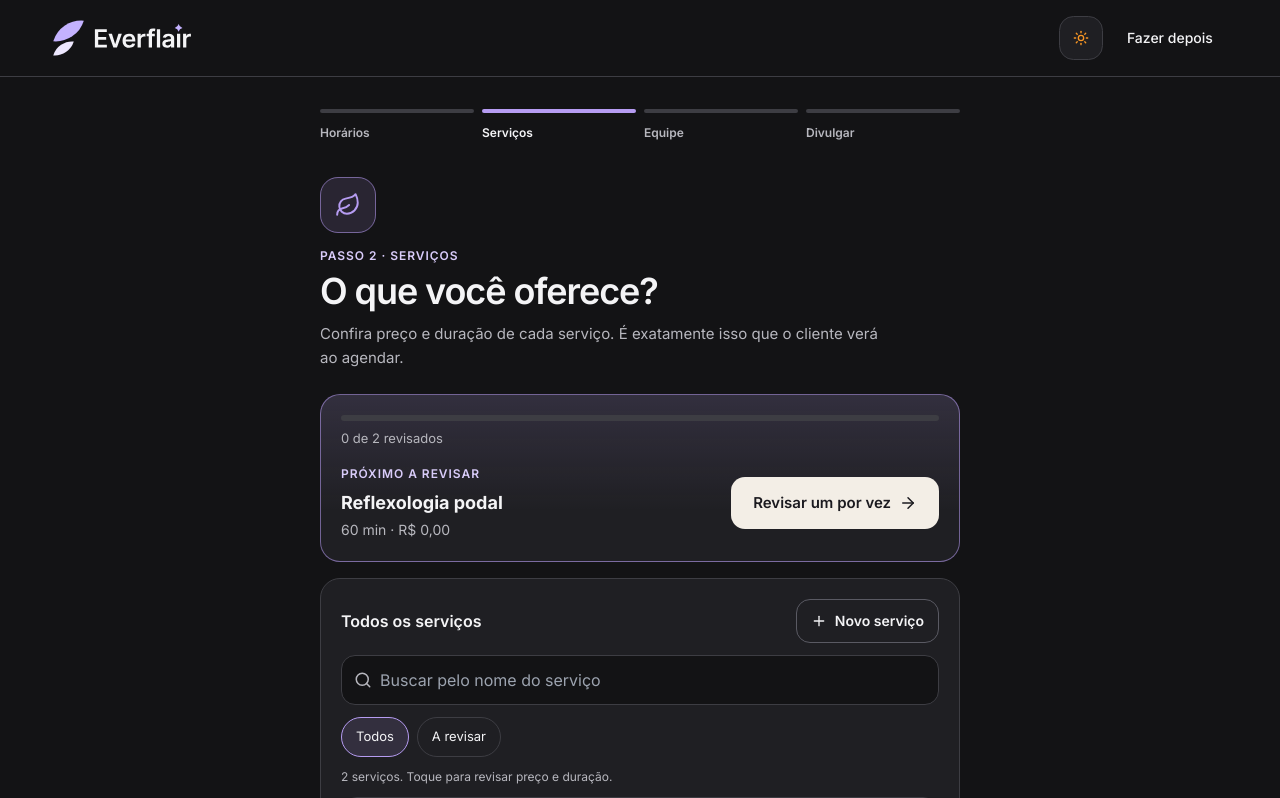
Test: revisa serviços um por vez e abre o próximo pendente após salvar
Expected: the text "0 de 2 revisados" is shown, [341, 430, 443, 446]
Click the button "Revisar um por vez" at (835, 503), box [731, 477, 939, 529]
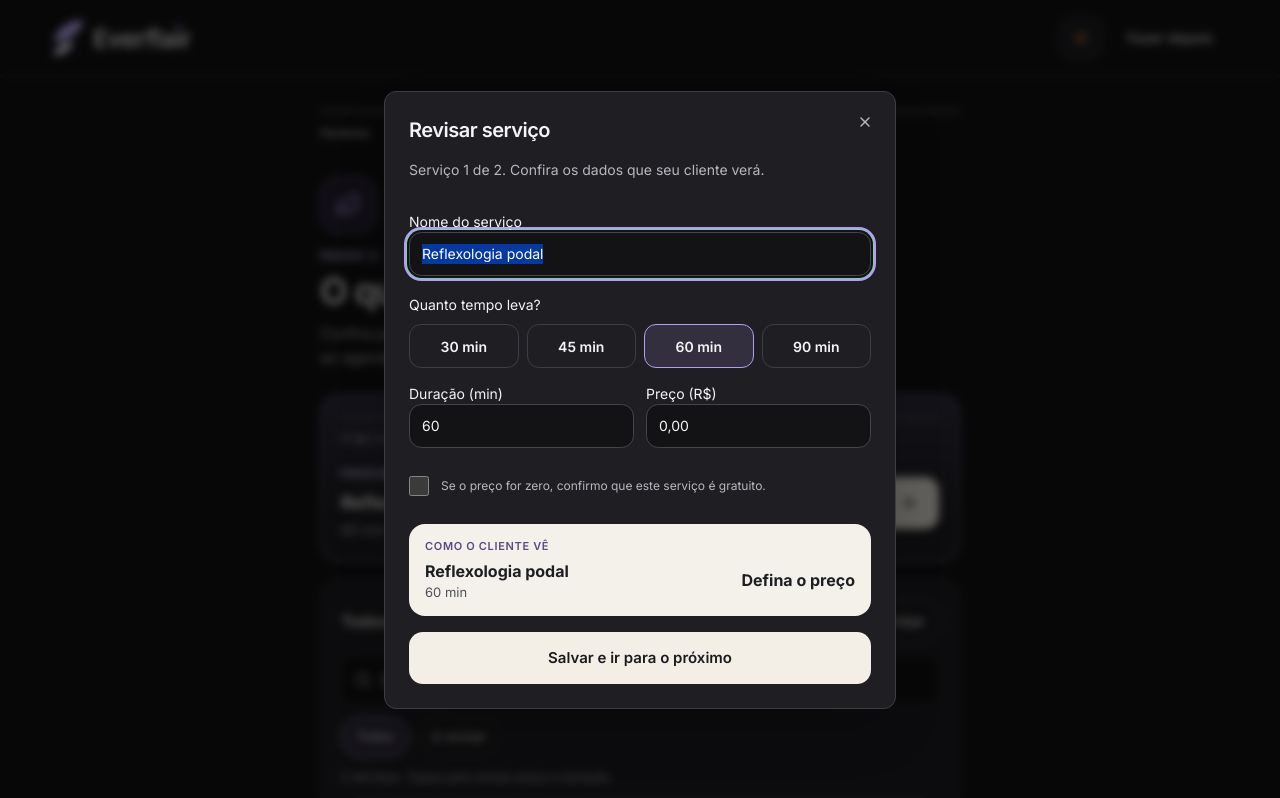
Expected: the field labelled "Nome do serviço" holds "Reflexologia podal", [409, 232, 871, 276]
Click the button "90 min" at (816, 346), box [762, 324, 871, 368]
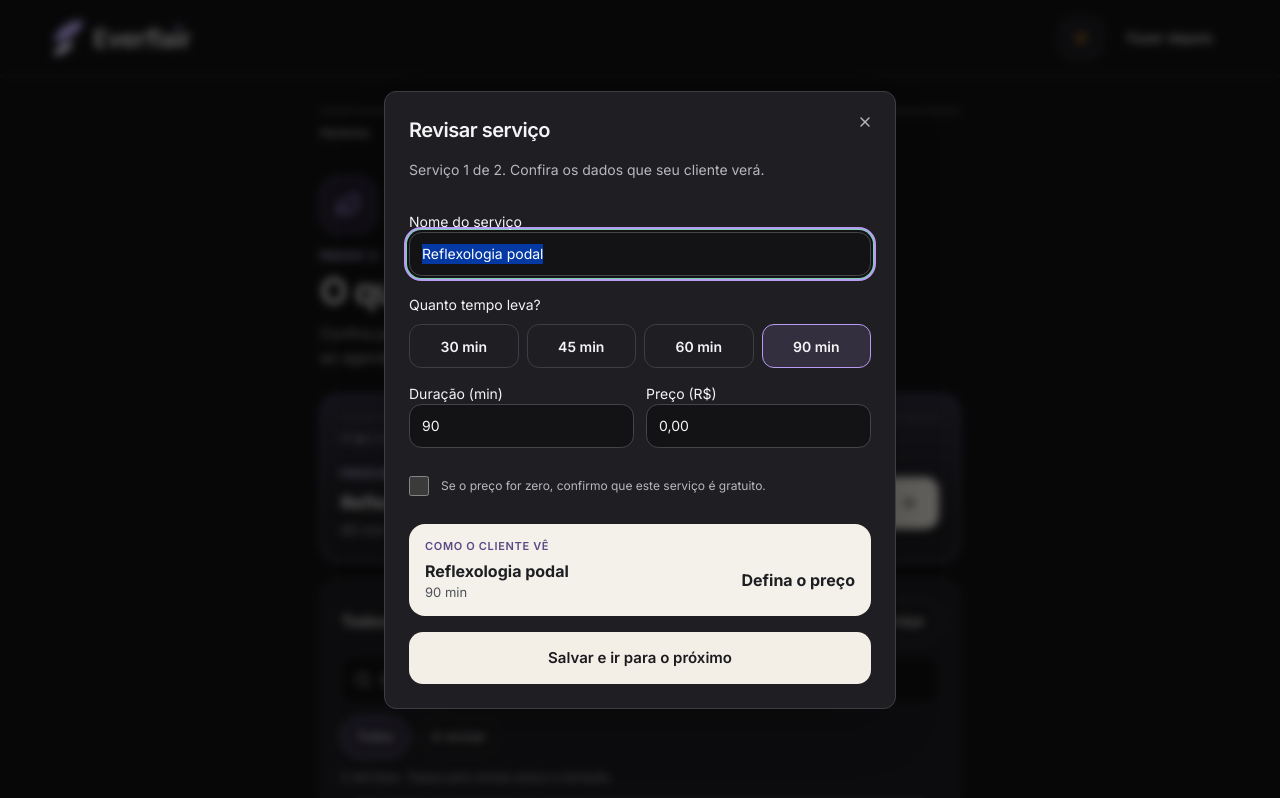
Type "120,00" into the field labelled "Preço (R$)" at (758, 426), box [646, 404, 871, 448]
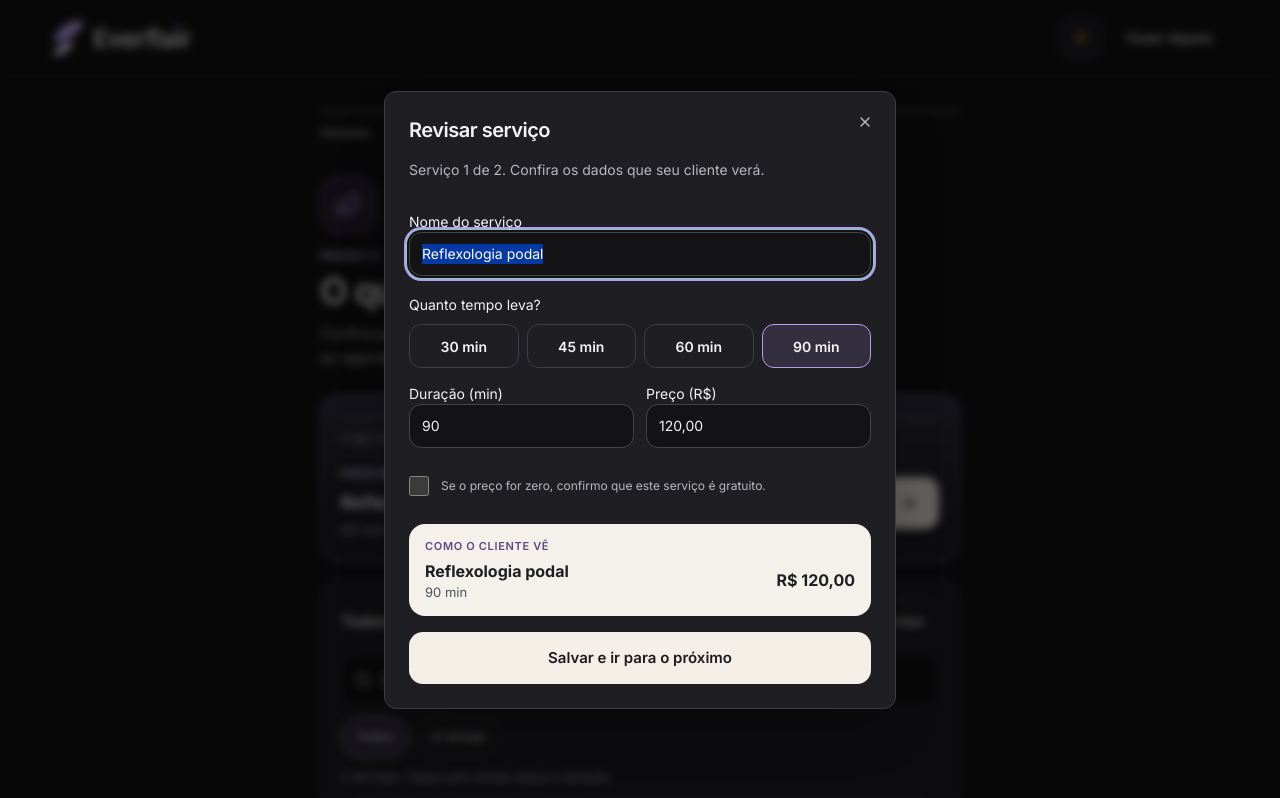
Expected: the text "R$ 120,00" is shown, [776, 568, 855, 592]
Click the button "Salvar e ir para o próximo" at (640, 658), box [409, 632, 871, 684]
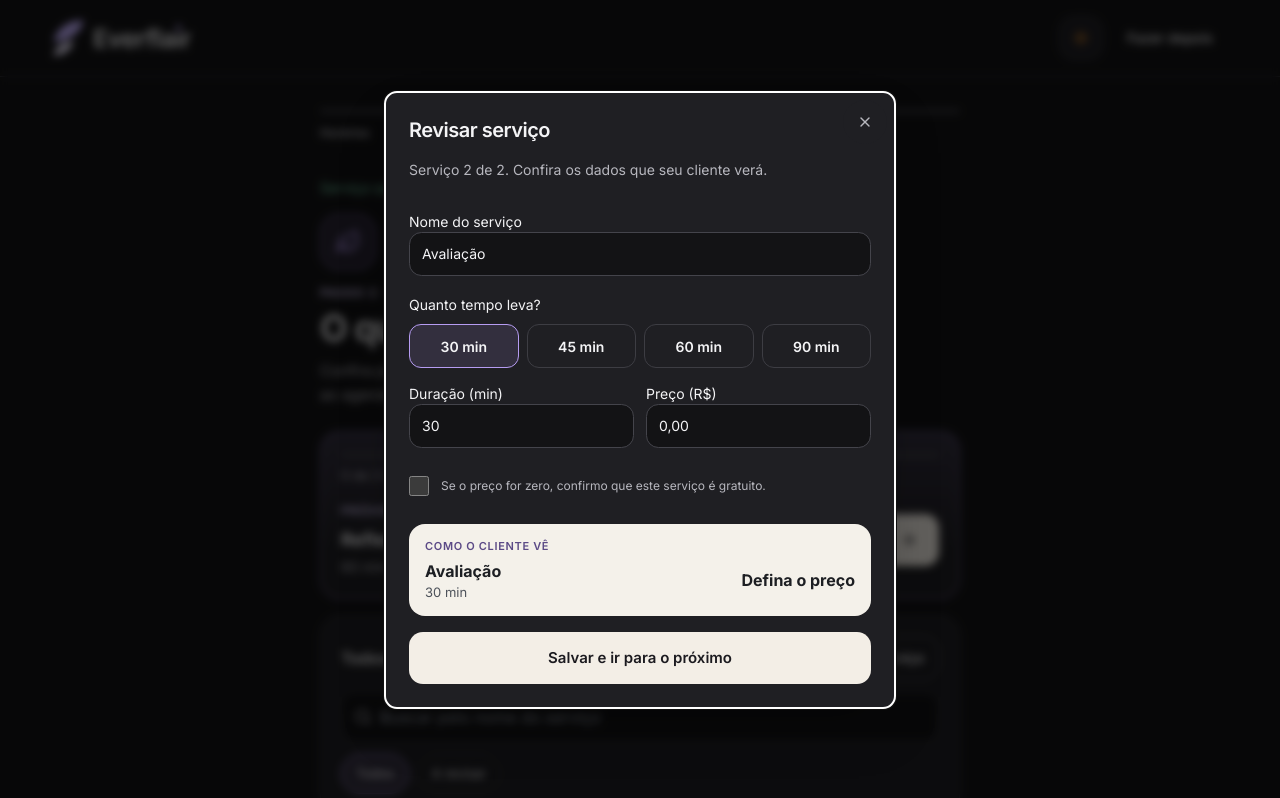
Expected: the field labelled "Nome do serviço" holds "Avaliação", [409, 232, 871, 276]
Expected: the text "Serviço salvo. Agora: Avaliação." is shown, [320, 179, 532, 196]
